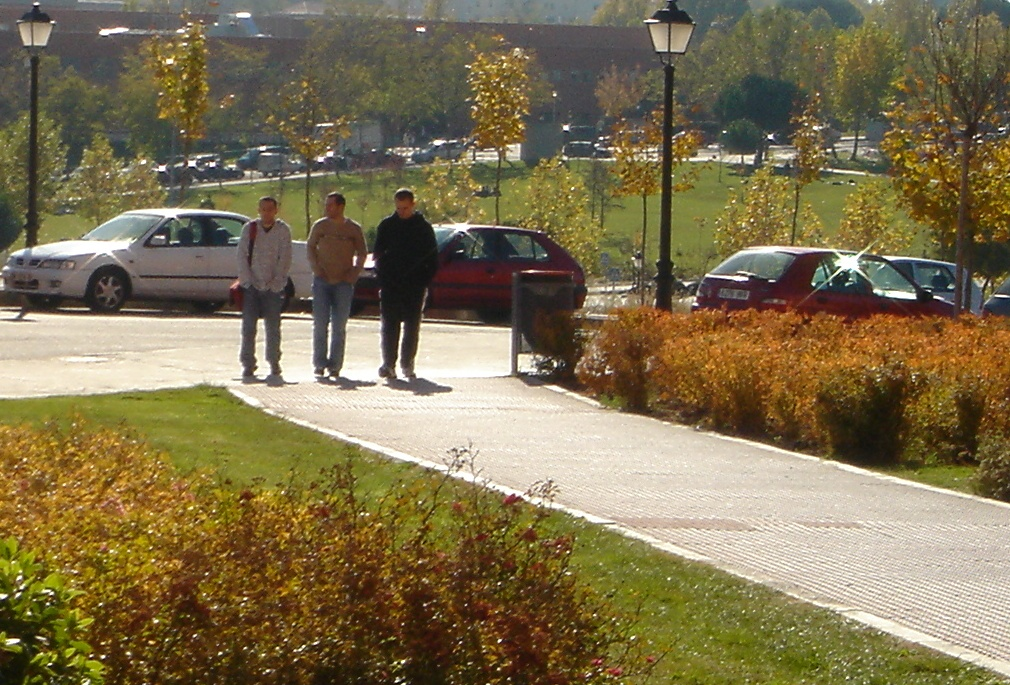person: (304, 185, 366, 385), (374, 189, 434, 378), (234, 192, 293, 379)
